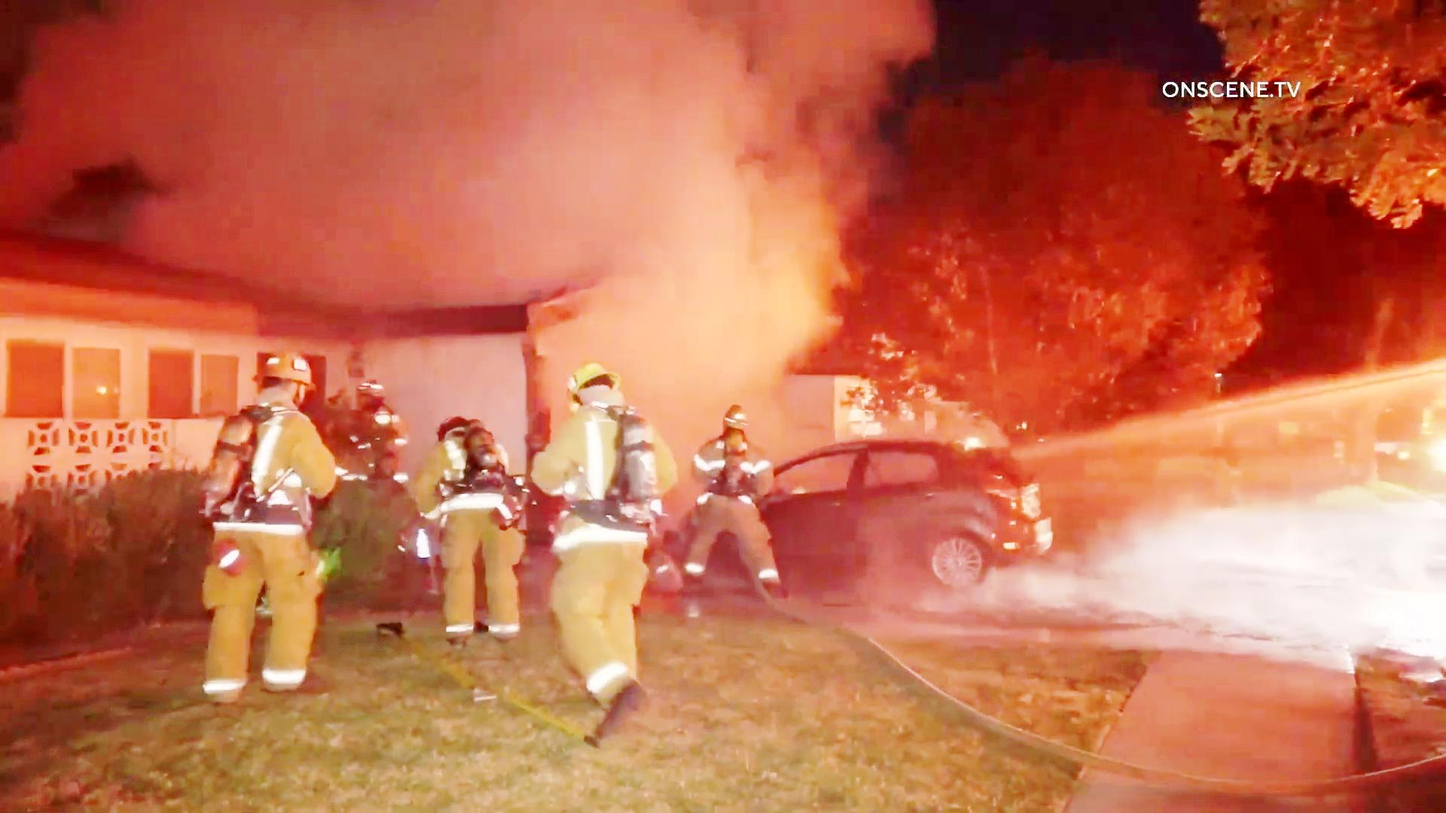smoke: (6, 2, 1144, 297)
